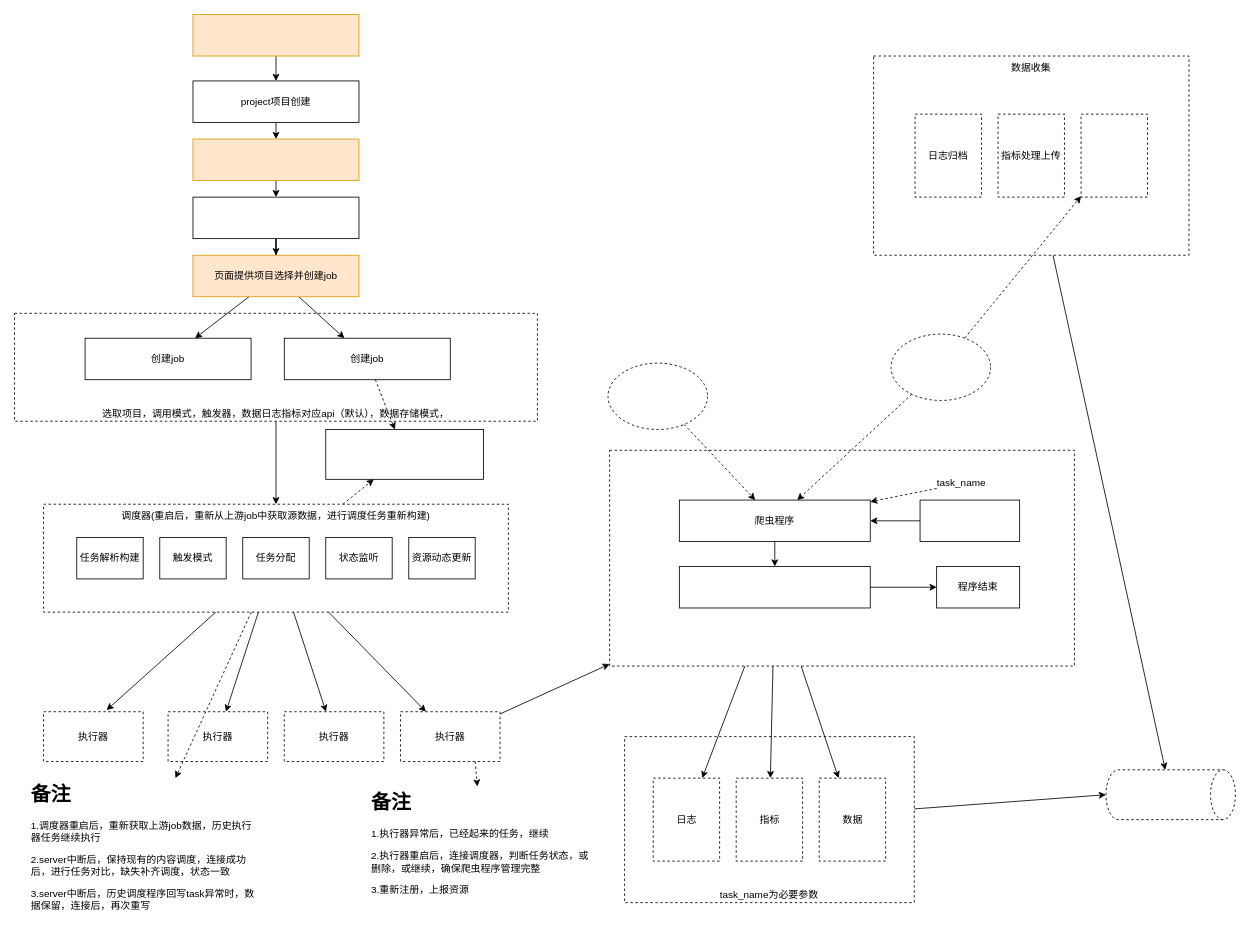
Image size: 1250x942. Some labels were removed from this diagram. Here are the shapes that lost their labels. From the top down, the centre of each, then its label:
pixel 275 35: 页面提供项目创建
pixel 275 159: 页面提供归档创建
pixel 1113 155: 数据保存 解析storage_class， 组装保存sql
pixel 275 217: 项目归档创建
pixel 940 366: 数据增量方式
pixel 657 396: redis或缓存队列 记录增量位置或基础数据
pixel 404 454: task 基于调度信息，生成task任务，保存到服务端
pixel 969 520: 相关环境变量
pixel 774 587: 程序启动
pixel 1170 794: 消息队列
